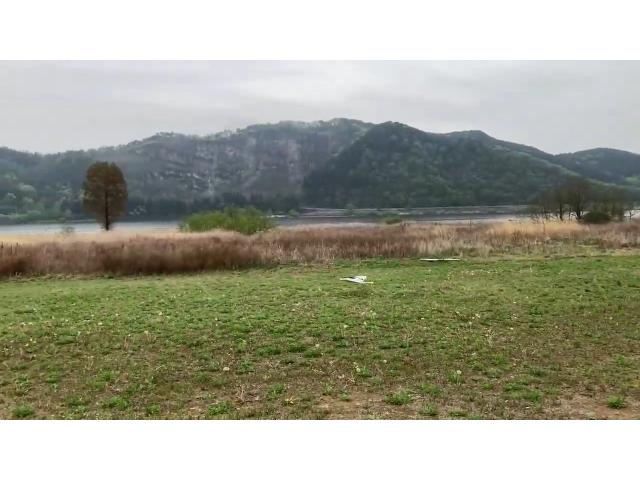Anti-Drone: (329, 263, 381, 290)
